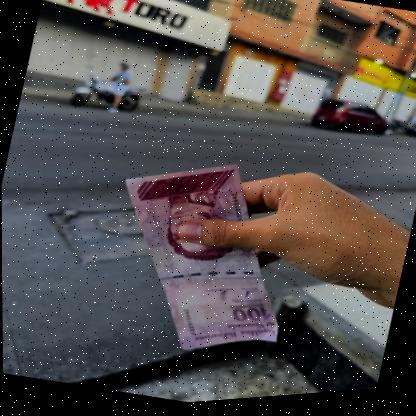one_hundred-front-vef: (88, 137, 315, 380)
